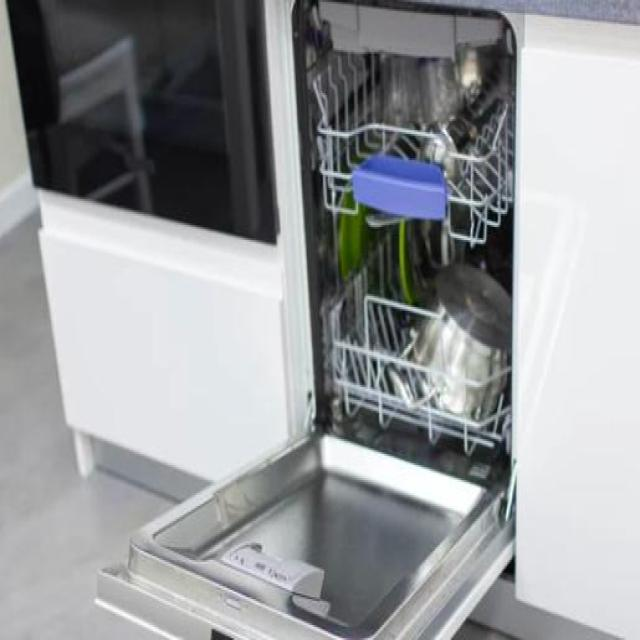dishwasher: (87, 6, 522, 638)
